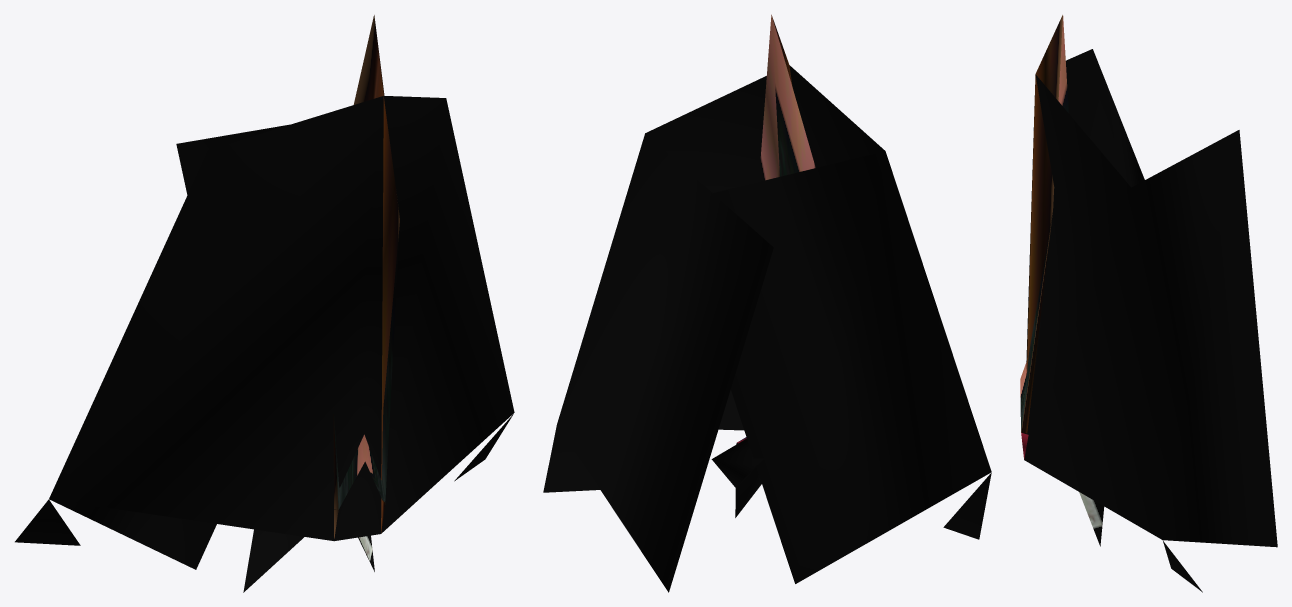
The picture shows the model from 3 angles, left to right: view 1: azimuth 30°, elevation 25°; view 2: azimuth 150°, elevation 25°; view 3: azimuth 270°, elevation 25°; orthographic projection. The views are drawn at different scales.
Visible parts, largest first — view 1: T1L3M002_27; view 2: T1L3M002_27; view 3: T1L3M002_27.
Part boxes in pixels (left/top/right/bottom): T1L3M002_27: left=15, top=15, right=514, bottom=592; T1L3M002_27: left=543, top=14, right=991, bottom=592; T1L3M002_27: left=1020, top=15, right=1277, bottom=592.
Size of the model in its own units: 0.7523 by 0.8531 by 0.3738.
